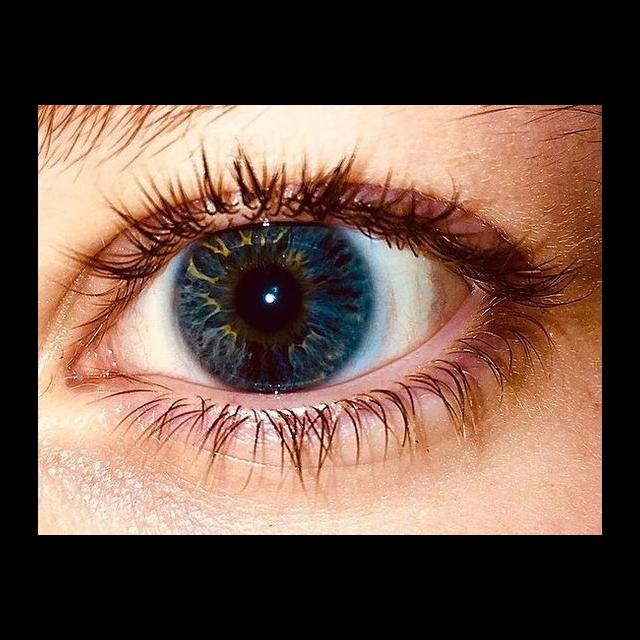eye: (119, 230, 474, 395)
iris: (177, 236, 374, 390)
